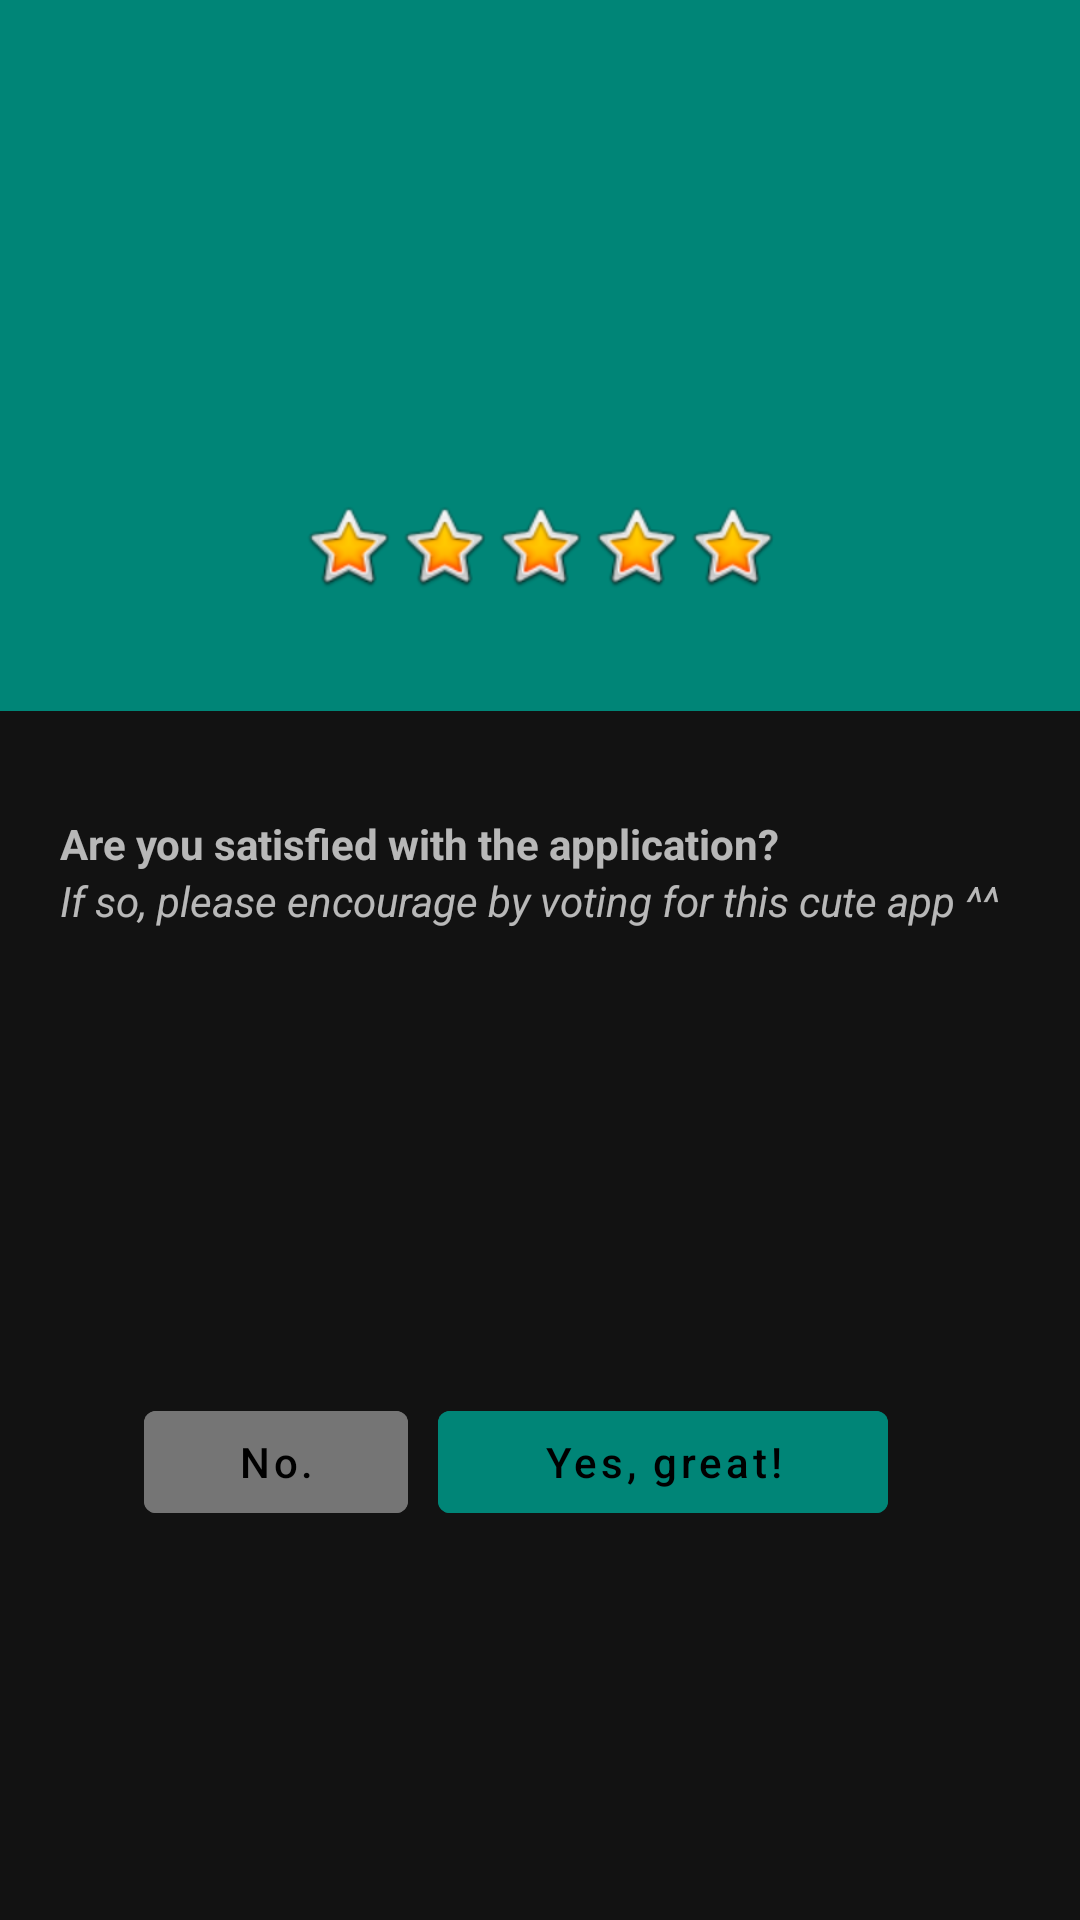

Icons on this 1080px x 1920px Android screen, each with the point to tap as point (x, y):
star on: point (349, 547), point (445, 547), point (541, 547), point (637, 547), point (733, 547)
